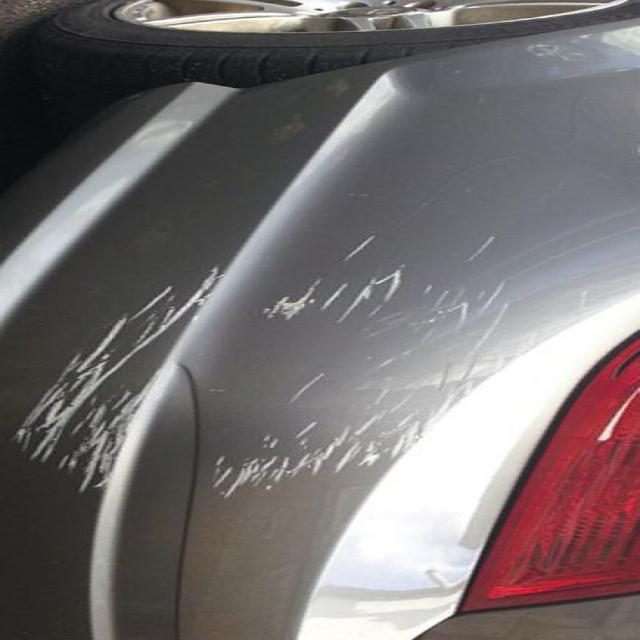scratch: (0, 204, 552, 603)
